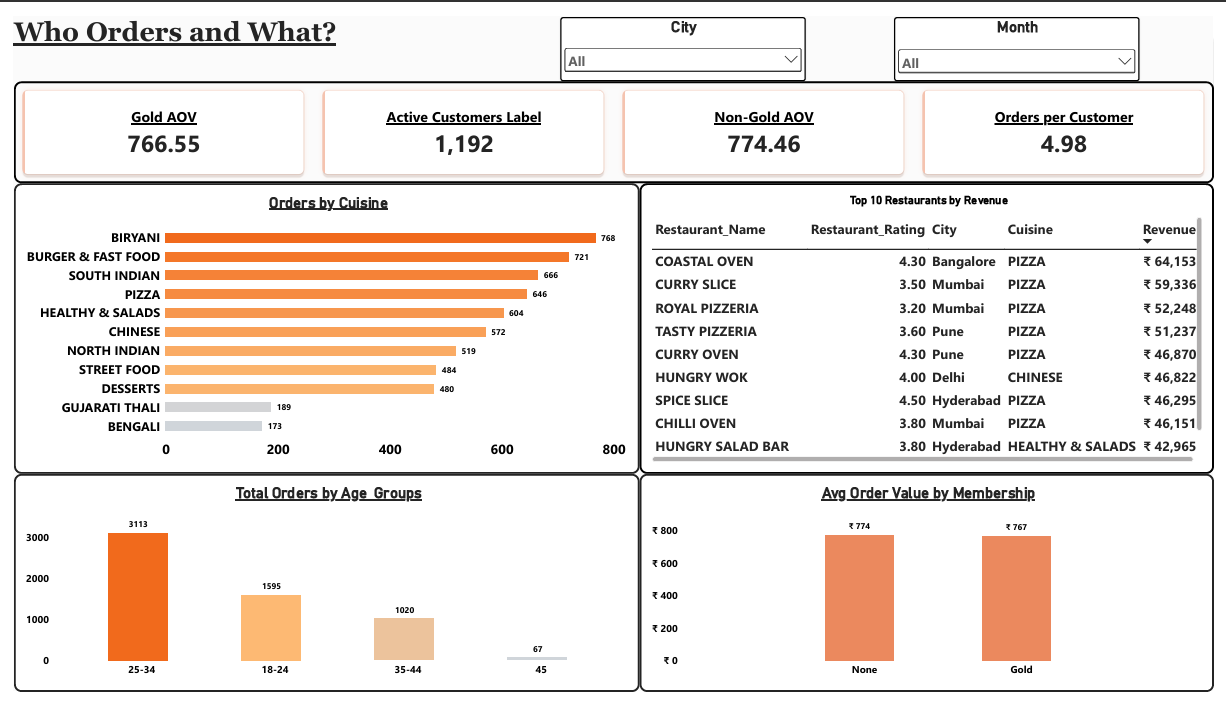

This screenshot's page, from the dashboard's own definition file:
{"tool":"powerbi","page":{"name":"Customers","canvas":[1920,1080],"ordinal":3},"visuals":[{"type":"cardVisual","fields":{"Data":["Measures .Gold AOV","Measures .Active Customers Label","Measures .Non-Gold AOV","Measures .Orders per Customer"]},"box":[0,103.2,1920.1,162.9],"z":0},{"type":"slicer","title":"Month","fields":{"Values":["Calendar.Month Name"]},"box":[1407.9,0,392.7,103.2],"z":1000},{"type":"slicer","title":"City","fields":{"Values":["Orders.City"]},"box":[874.1,0,392.7,103.2],"z":2000},{"type":"textbox","box":[0,0,541.1,103.2],"z":3000},{"type":"clusteredBarChart","title":"Orders by Cuisine","fields":{"Category":["Restaurants.Cuisine"],"Y":["Measures .Total Orders"]},"box":[0,266,1000.7,465.1],"z":4000},{"type":"tableEx","title":"Top 10 Restaurants by Revenue","fields":{"Values":["Restaurants.Restaurant_Name","Restaurants.Restaurant_Rating","Restaurants.City","Restaurants.Cuisine","Measures .Revenue"]},"box":[1000.7,266,919.3,465.1],"z":5000},{"type":"clusteredColumnChart","fields":{"Category":["Customers.Age_Groups"],"Y":["Measures .Total Orders"]},"box":[0,731.1,1000.7,349.3],"z":6000},{"type":"clusteredColumnChart","fields":{"Category":["Customers.Membership"],"Y":["Measures .Avg Order Value"]},"box":[1001,731,919,349],"z":7000}]}

Visuals, with their boxes in screenshot pixels (x1, y1, x2, y2), scaled from the page's 1920x1080 canvas onto the 1226x707 screenshot:
cardVisual - Measures .Gold AOV x Measures .Active Customers Label: <region>0, 68, 1225, 174</region>
"Month" slicer: <region>899, 0, 1150, 68</region>
"City" slicer: <region>558, 0, 809, 68</region>
textbox: <region>0, 0, 346, 68</region>
"Orders by Cuisine" clusteredBarChart: <region>0, 174, 639, 479</region>
"Top 10 Restaurants by Revenue" tableEx: <region>639, 174, 1225, 479</region>
clusteredColumnChart - Customers.Age_Groups x Measures .Total Orders: <region>0, 479, 639, 706</region>
clusteredColumnChart - Customers.Membership x Measures .Avg Order Value: <region>639, 479, 1225, 706</region>
